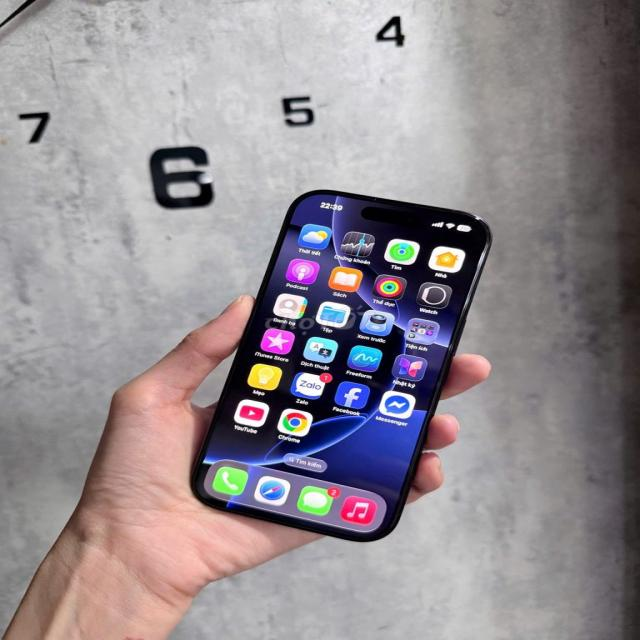gen_16: (181, 186, 497, 552)
